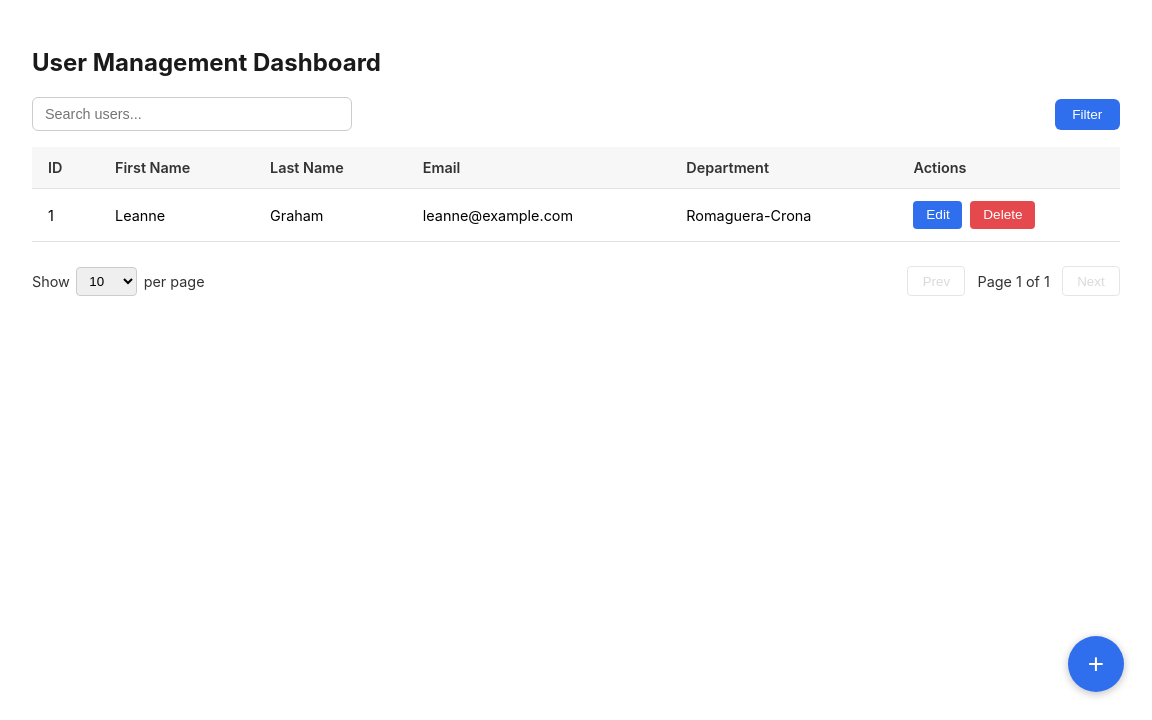
Test: App - Delete user flow › opens the delete confirmation modal for the selected user
Click the button with aria-label "Delete Leanne Graham" at x=1003, y=215, box [970, 201, 1035, 229]
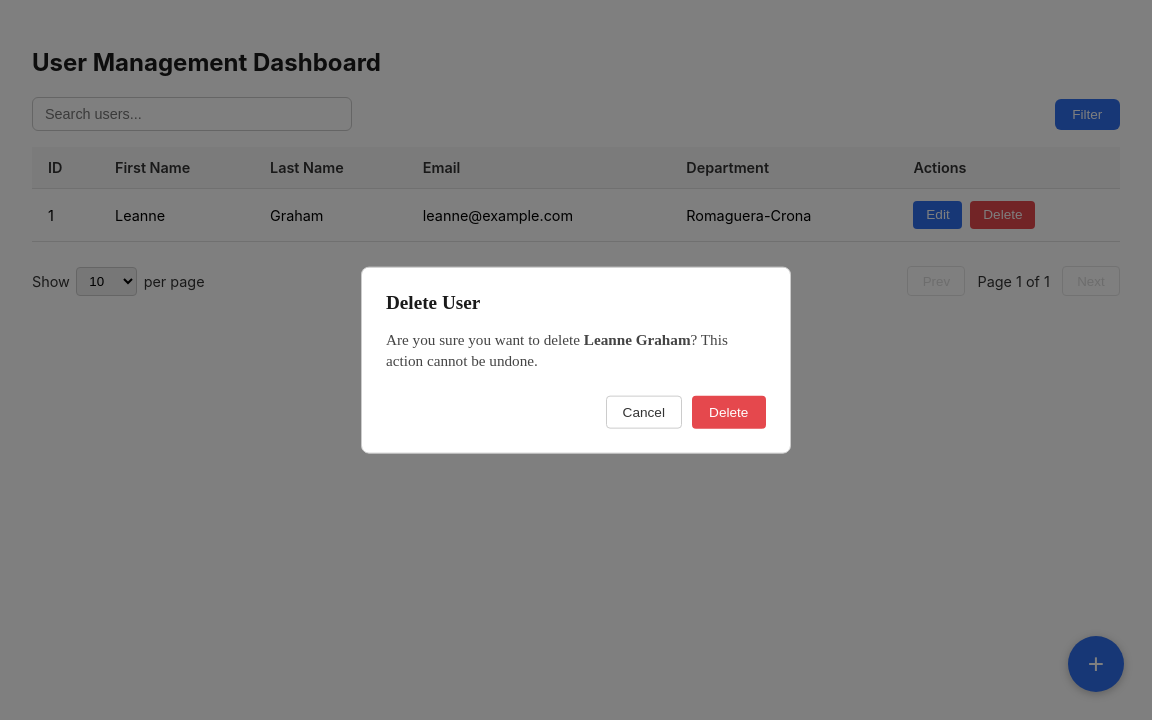
Result: the text "Leanne Graham" is shown at [584, 331, 691, 348]
Result: the heading "Delete User" is shown at [386, 292, 480, 313]
